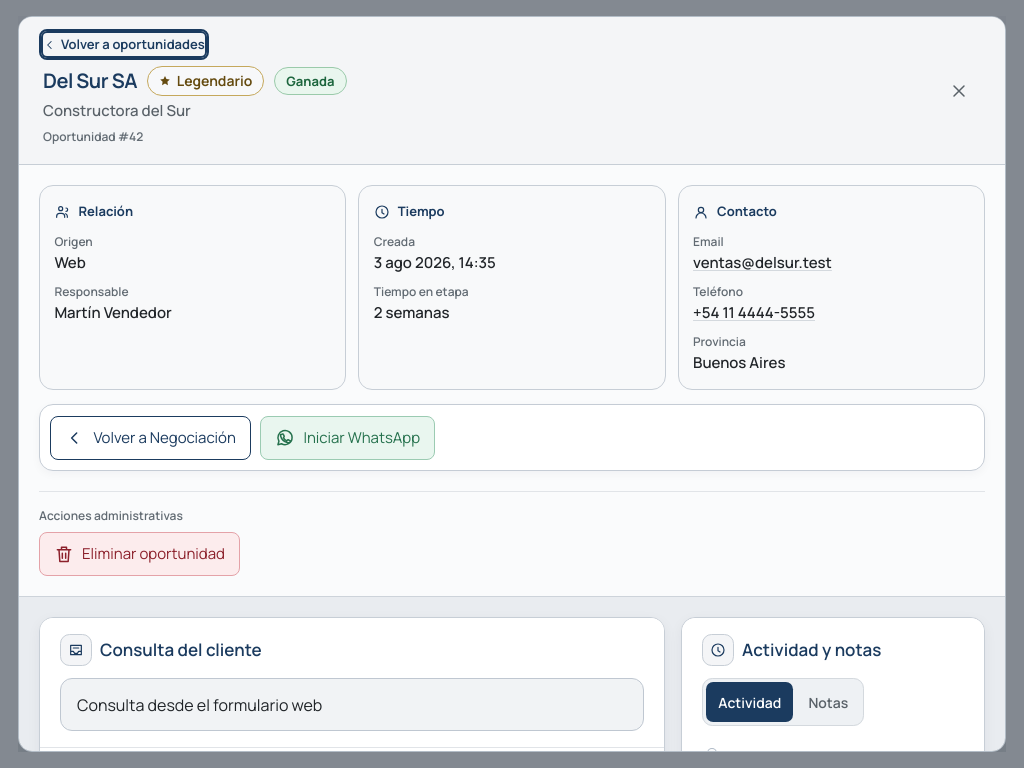
Test: OpportunityDetailPage › preserves a Note draft after a recoverable save failure
Expected: the heading "Del Sur SA" is shown, top-left (43, 67), bottom-right (137, 95)
Click the button "Notas" at (828, 702), box top-left (796, 682), bottom-right (860, 722)
(page scrolled)
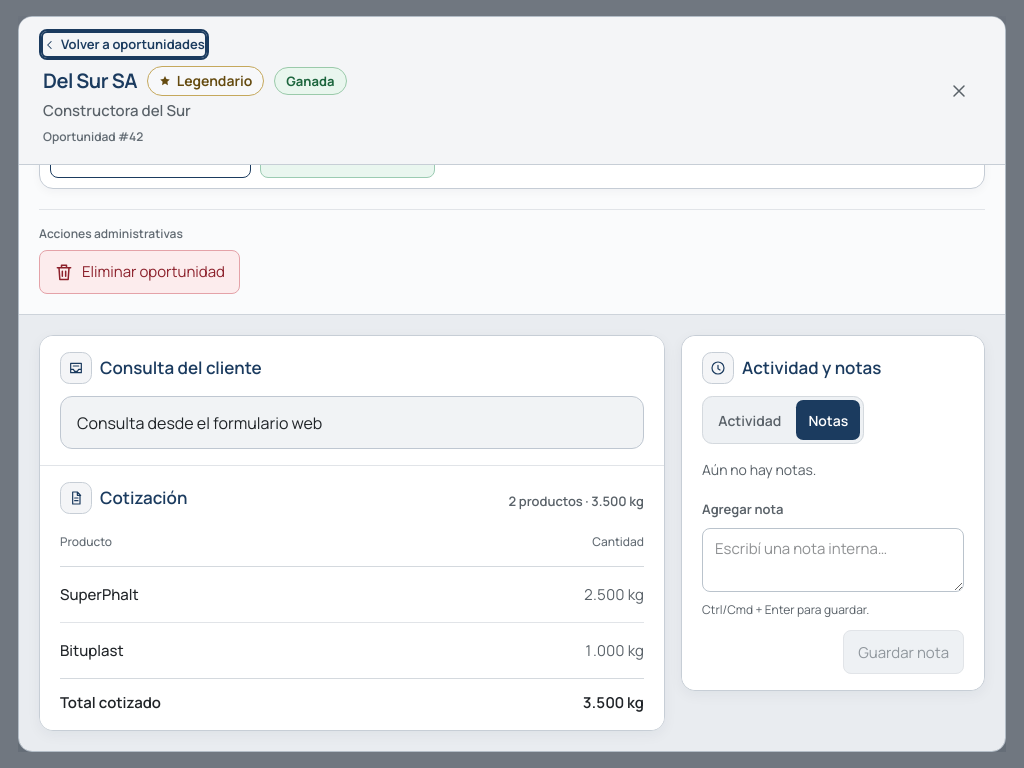
Expected: the text "Aún no hay notas." is shown, top-left (702, 460), bottom-right (816, 479)
Type "No perder esta nota" into the text box labelled "Agregar nota" at (833, 560), box top-left (702, 528), bottom-right (964, 592)
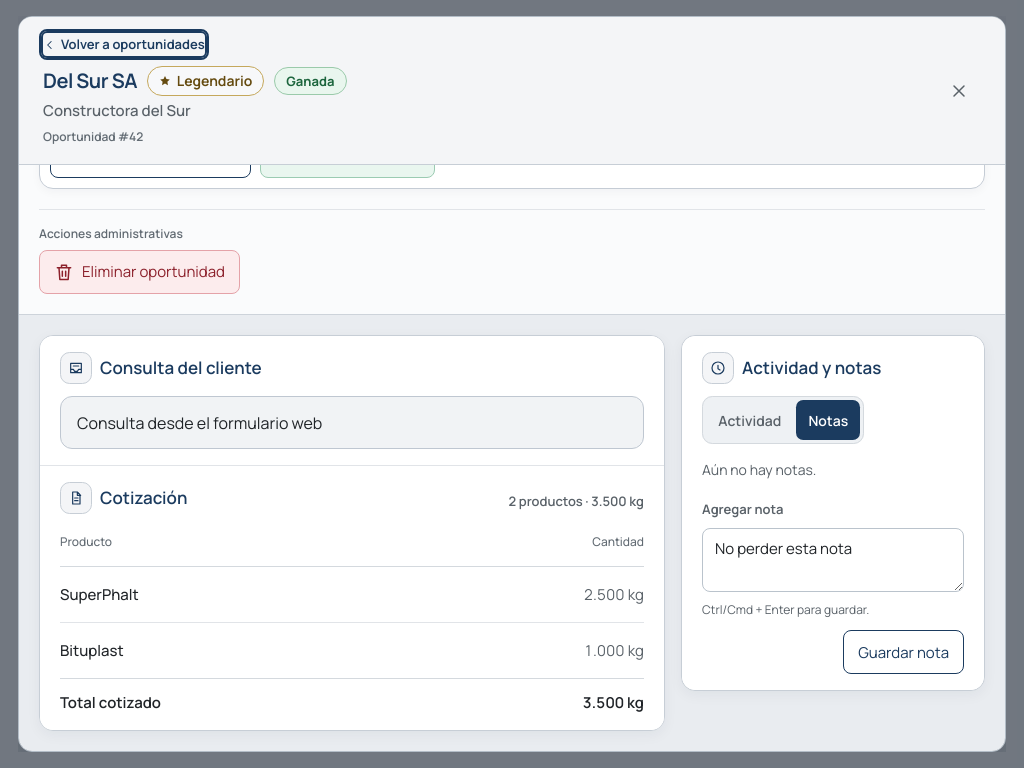
Click the button "Guardar nota" at (904, 652), box top-left (843, 630), bottom-right (964, 674)
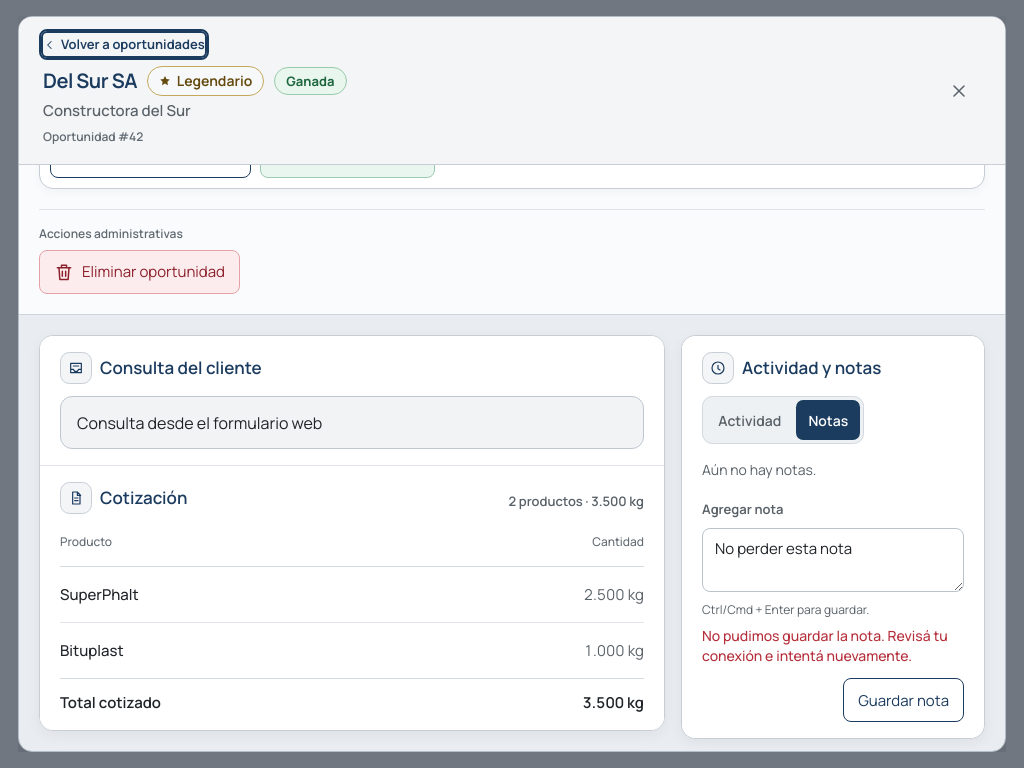
Expected: the message shows "No pudimos guardar la nota", top-left (702, 626), bottom-right (948, 665)
